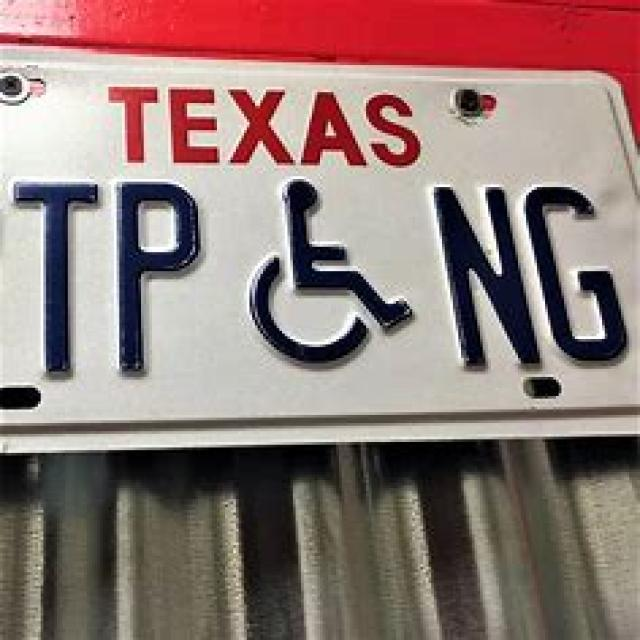symbol_of_access: (246, 174, 420, 370)
